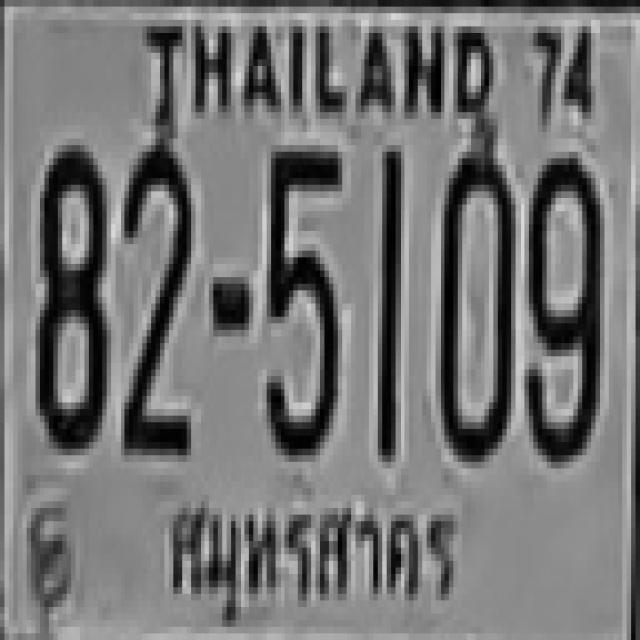0: (436, 145, 511, 455)
2: (120, 142, 191, 439), (120, 158, 191, 449)
5: (262, 145, 338, 449)
8: (34, 139, 104, 442)
9: (520, 152, 600, 455)
SamutSakhon: (158, 492, 470, 620)
